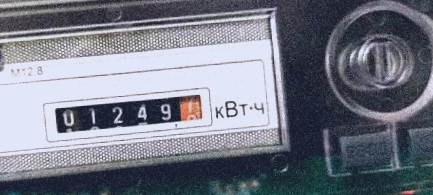0: (61, 107, 75, 127)
1: (86, 105, 97, 125)
2: (110, 104, 124, 125)
4: (135, 102, 147, 121)
7: (183, 94, 196, 114)
9: (158, 101, 172, 122)
screen: (35, 86, 212, 141)
